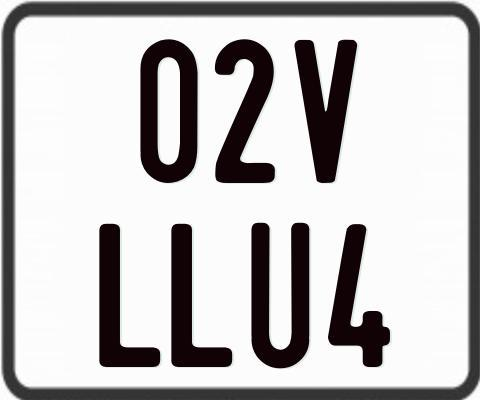0: (140, 36, 198, 182)
2: (214, 37, 276, 182)
4: (326, 221, 393, 364)
L: (97, 221, 162, 369), (168, 222, 229, 366)
U: (249, 220, 310, 369)
V: (294, 38, 357, 186)
